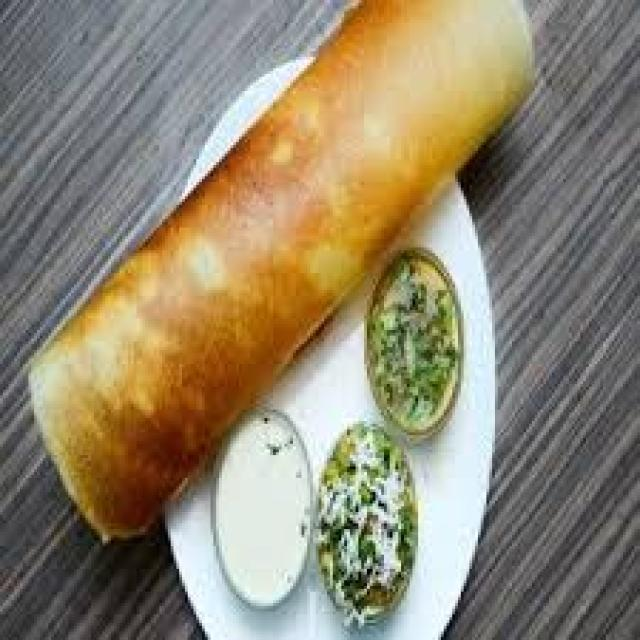DOSA: (34, 0, 532, 535)
